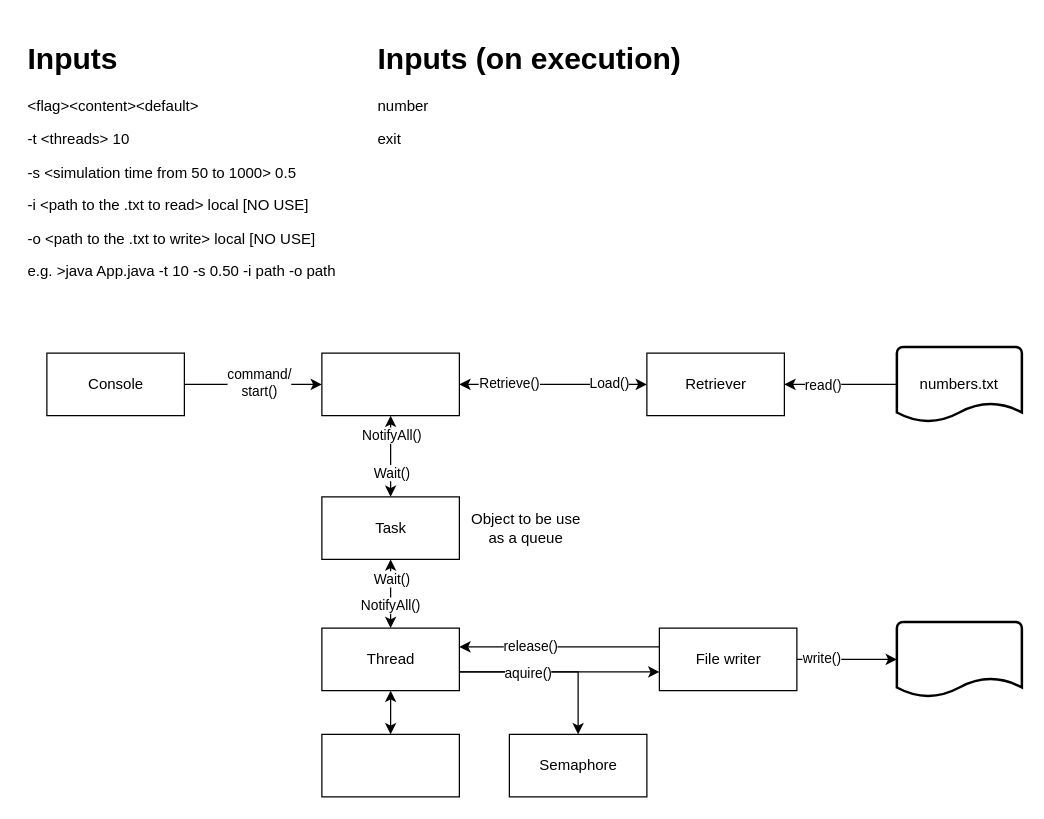
Image size: 1044x819. Some labels were removed from this diagram. Each missing label, with the centre of its shape:
Calculator: pixel 390 765
Charger: pixel 390 384
result.txt: pixel 958 659
